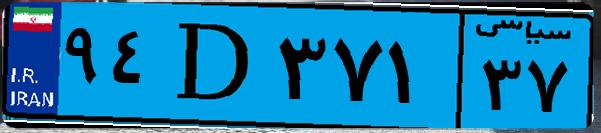1: (385, 28, 445, 110)
3: (270, 28, 330, 110), (475, 38, 525, 113)
4: (110, 28, 158, 98)
7: (330, 28, 385, 110), (525, 38, 570, 115)
9: (57, 26, 110, 100)
D: (158, 12, 270, 120)
